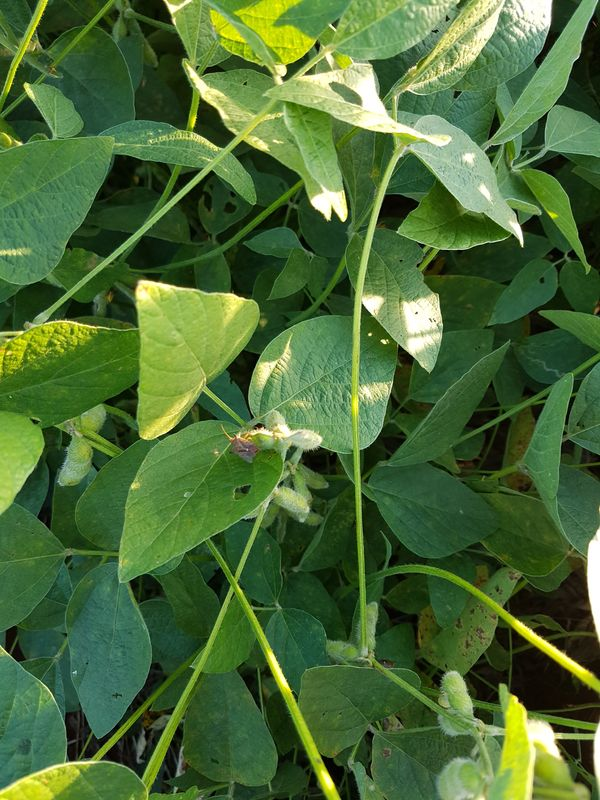Euschistus_heros_adulto: (221, 430, 272, 469)
